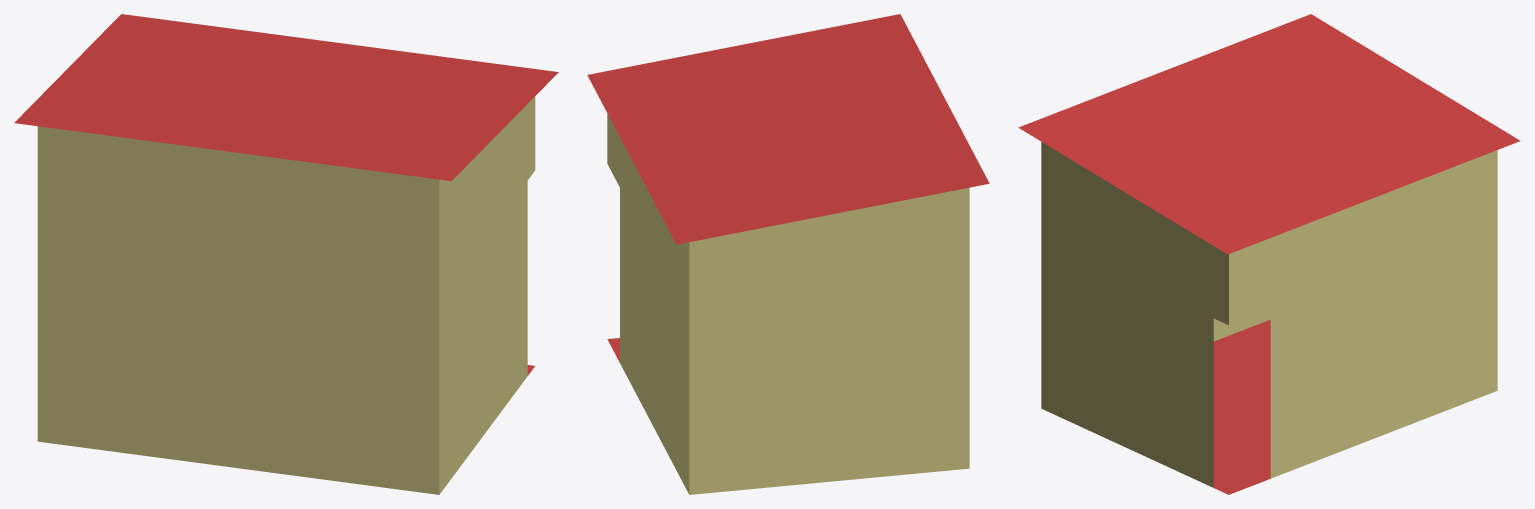
3 views of the same model, side by side, from view 1: azimuth 30°, elevation 25°; view 2: azimuth 150°, elevation 25°; view 3: azimuth 270°, elevation 25° (orthographic). The views are drawn at different scales.
Size of the model in its own units: 15.28 by 15.44 by 9.51.
